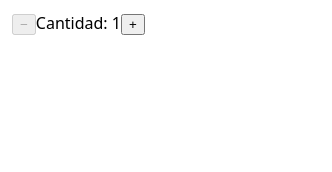
it: SelectorCantidad › suma una unidad al pulsar +
Click the button "+" at (133, 24), box [121, 14, 145, 35]
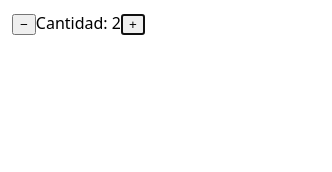
Expected: the text "Cantidad: 2" is shown, [36, 12, 121, 34]
